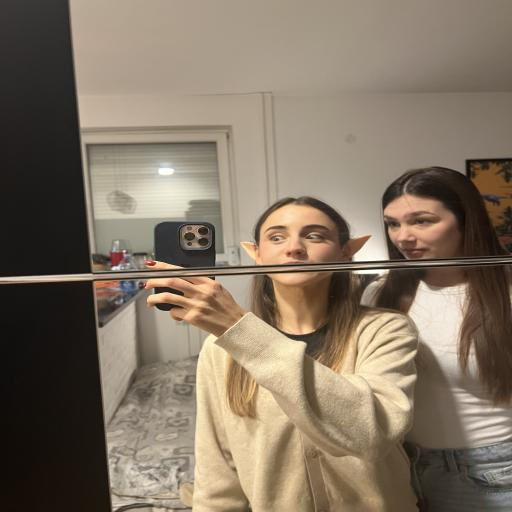masa: (258, 204, 344, 286)
